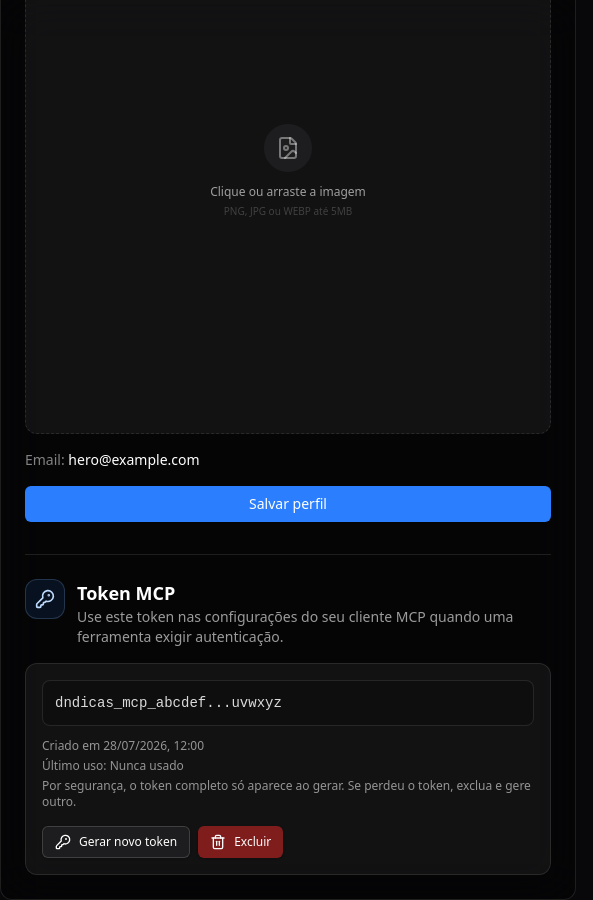
Test: UserProfile MCP token › shows masked token after reload and revokes it
The width and height of the screenshot is (593, 900).
(page scrolled)
Expected: the text "dndicas_mcp_abcdef...uvwxyz" is shown, [42,680,534,726]
Expected: the text "Por segurança, o token completo só aparece ao gerar. Se perdeu o token, exclua e gere outro." is shown, [42,777,531,810]
Click the button "Excluir". click: [241, 842]
box: [198,826,283,858]
(page scrolled)
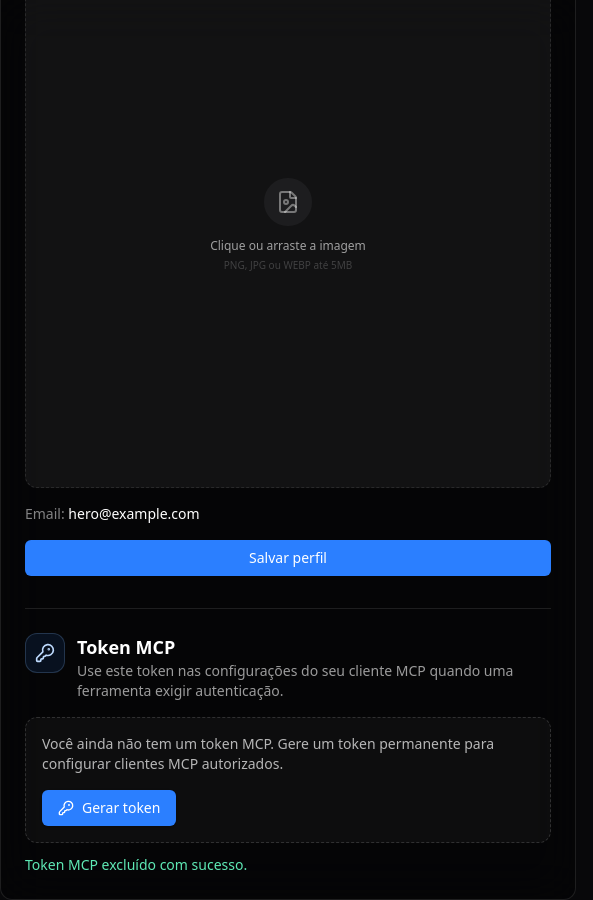
Now the text "Token MCP excluído com sucesso." is shown, box [25,855,247,874]
